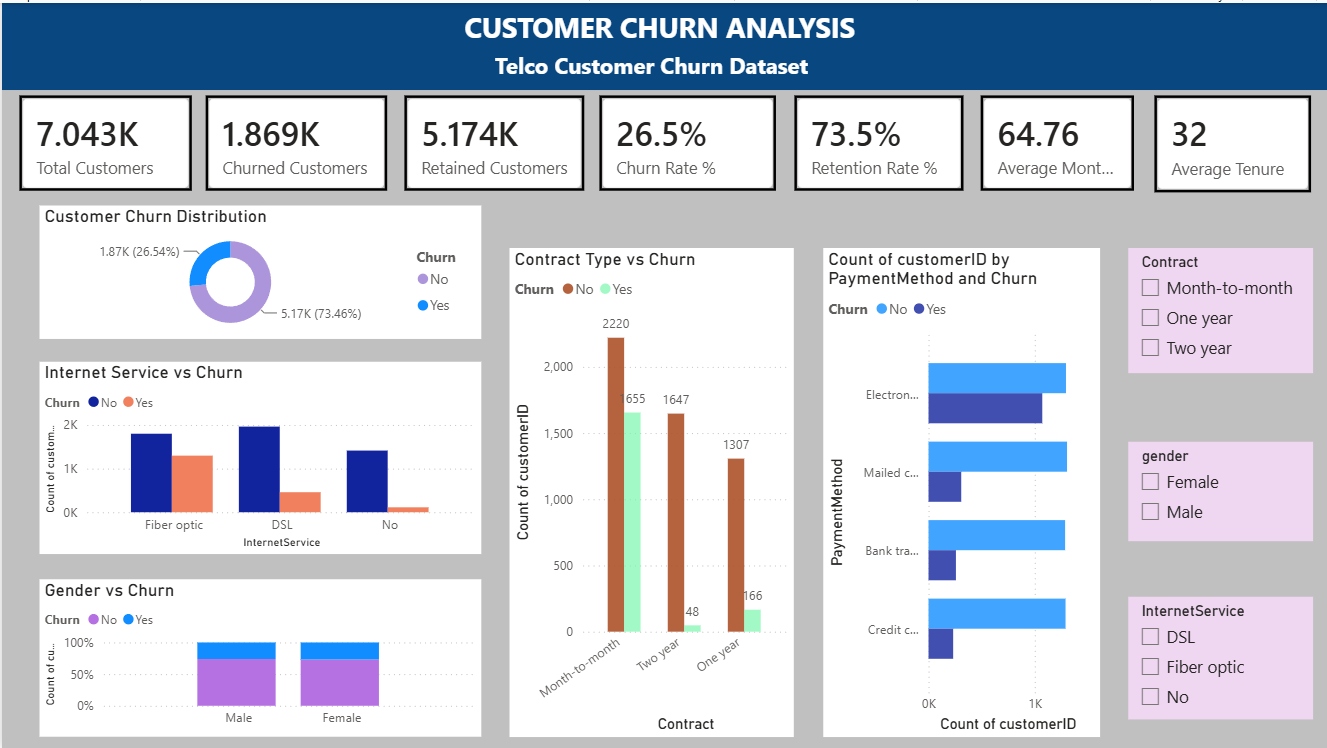

The page's visual inventory and layout, read from the dashboard file:
{"tool":"powerbi","page":{"name":"Page 1","canvas":[1280,720],"ordinal":0},"visuals":[{"type":"cardVisual","fields":{"Data":["WA_Fn-UseC_-Telco-Customer-Churn.Total Customers"]},"box":[0,72.7,200.3,126.2],"z":0},{"type":"cardVisual","fields":{"Data":["WA_Fn-UseC_-Telco-Customer-Churn.Churned Customers"]},"box":[179.8,72.7,209.9,126.2],"z":1000},{"type":"cardVisual","fields":{"Data":["WA_Fn-UseC_-Telco-Customer-Churn.Retained Customers"]},"box":[371.9,72.7,207.2,126.2],"z":2000},{"type":"cardVisual","fields":{"Data":["WA_Fn-UseC_-Telco-Customer-Churn.Churn Rate %"]},"box":[559.9,72.7,204.5,126.2],"z":3000},{"type":"cardVisual","fields":{"Data":["WA_Fn-UseC_-Telco-Customer-Churn.Retention Rate %"]},"box":[747.9,72.7,197.6,126.2],"z":4000},{"type":"cardVisual","fields":{"Data":["WA_Fn-UseC_-Telco-Customer-Churn.Average Monthly Charges"]},"box":[927.6,72.7,182.5,126.2],"z":5000},{"type":"donutChart","title":"Customer Churn Distribution","fields":{"Category":["WA_Fn-UseC_-Telco-Customer-Churn.Churn"],"Y":["CountNonNull(WA_Fn-UseC_-Telco-Customer-Churn.customerID)"]},"box":[35.7,194.9,426.8,129],"z":6000},{"type":"clusteredColumnChart","title":"Contract Type vs Churn","fields":{"Category":["WA_Fn-UseC_-Telco-Customer-Churn.Contract"],"Series":["WA_Fn-UseC_-Telco-Customer-Churn.Churn"],"Y":["CountNonNull(WA_Fn-UseC_-Telco-Customer-Churn.customerID)"]},"box":[489.9,236,274.4,472],"z":7000},{"type":"clusteredColumnChart","title":"Internet Service vs Churn","fields":{"Category":["WA_Fn-UseC_-Telco-Customer-Churn.InternetService"],"Y":["CountNonNull(WA_Fn-UseC_-Telco-Customer-Churn.customerID)"],"Series":["WA_Fn-UseC_-Telco-Customer-Churn.Churn"]},"box":[35.7,345.8,426.8,185.2],"z":8000},{"type":"hundredPercentStackedColumnChart","title":"Gender vs Churn","fields":{"Category":["WA_Fn-UseC_-Telco-Customer-Churn.gender"],"Y":["CountNonNull(WA_Fn-UseC_-Telco-Customer-Churn.customerID)"],"Series":["WA_Fn-UseC_-Telco-Customer-Churn.Churn"]},"box":[35.7,555.7,426.8,152.3],"z":9000},{"type":"slicer","fields":{"Values":["WA_Fn-UseC_-Telco-Customer-Churn.gender"]},"box":[1086.8,424,178.4,96.1],"z":10000},{"type":"slicer","fields":{"Values":["WA_Fn-UseC_-Telco-Customer-Churn.Contract"]},"box":[1086.8,236,178.4,120.8],"z":11000},{"type":"slicer","fields":{"Values":["WA_Fn-UseC_-Telco-Customer-Churn.InternetService"]},"box":[1086.8,573.6,178.4,118],"z":12000},{"type":"clusteredBarChart","fields":{"Category":["WA_Fn-UseC_-Telco-Customer-Churn.PaymentMethod"],"Y":["CountNonNull(WA_Fn-UseC_-Telco-Customer-Churn.customerID)"],"Series":["WA_Fn-UseC_-Telco-Customer-Churn.Churn"]},"box":[793.1,236,267.6,472],"z":13000},{"type":"cardVisual","fields":{"Data":["WA_Fn-UseC_-Telco-Customer-Churn.Average Tenure"]},"box":[1095,72.7,185.2,127.6],"z":14000},{"type":"textbox","box":[0,0,1280.3,83.7],"z":14001}]}

Visuals, with their boxes in screenshot pixels (x1, y1, x2, y2), scaled from the page's 1280x720 canvas onto the 1327x748 screenshot:
cardVisual - WA_Fn-UseC_-Telco-Customer-Churn.Total Customers: (x1=0, y1=76, x2=208, y2=207)
cardVisual - WA_Fn-UseC_-Telco-Customer-Churn.Churned Customers: (x1=186, y1=76, x2=404, y2=207)
cardVisual - WA_Fn-UseC_-Telco-Customer-Churn.Retained Customers: (x1=386, y1=76, x2=600, y2=207)
cardVisual - WA_Fn-UseC_-Telco-Customer-Churn.Churn Rate %: (x1=580, y1=76, x2=792, y2=207)
cardVisual - WA_Fn-UseC_-Telco-Customer-Churn.Retention Rate %: (x1=775, y1=76, x2=980, y2=207)
cardVisual - WA_Fn-UseC_-Telco-Customer-Churn.Average Monthly Charges: (x1=962, y1=76, x2=1151, y2=207)
"Customer Churn Distribution" donutChart: (x1=37, y1=202, x2=479, y2=336)
"Contract Type vs Churn" clusteredColumnChart: (x1=508, y1=245, x2=792, y2=736)
"Internet Service vs Churn" clusteredColumnChart: (x1=37, y1=359, x2=479, y2=552)
"Gender vs Churn" hundredPercentStackedColumnChart: (x1=37, y1=577, x2=479, y2=736)
slicer - WA_Fn-UseC_-Telco-Customer-Churn.gender: (x1=1127, y1=440, x2=1312, y2=540)
slicer - WA_Fn-UseC_-Telco-Customer-Churn.Contract: (x1=1127, y1=245, x2=1312, y2=371)
slicer - WA_Fn-UseC_-Telco-Customer-Churn.InternetService: (x1=1127, y1=596, x2=1312, y2=718)
clusteredBarChart - WA_Fn-UseC_-Telco-Customer-Churn.PaymentMethod x CountNonNull(WA_Fn-UseC_-Telco-Customer-Churn.customerID): (x1=822, y1=245, x2=1100, y2=736)
cardVisual - WA_Fn-UseC_-Telco-Customer-Churn.Average Tenure: (x1=1135, y1=76, x2=1326, y2=208)
textbox: (x1=0, y1=0, x2=1326, y2=87)
